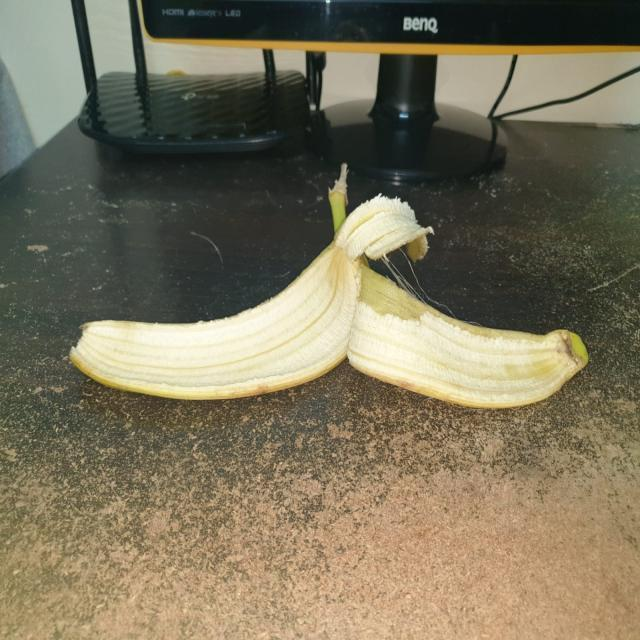banana-peel: (67, 163, 589, 410), (345, 256, 589, 409)
